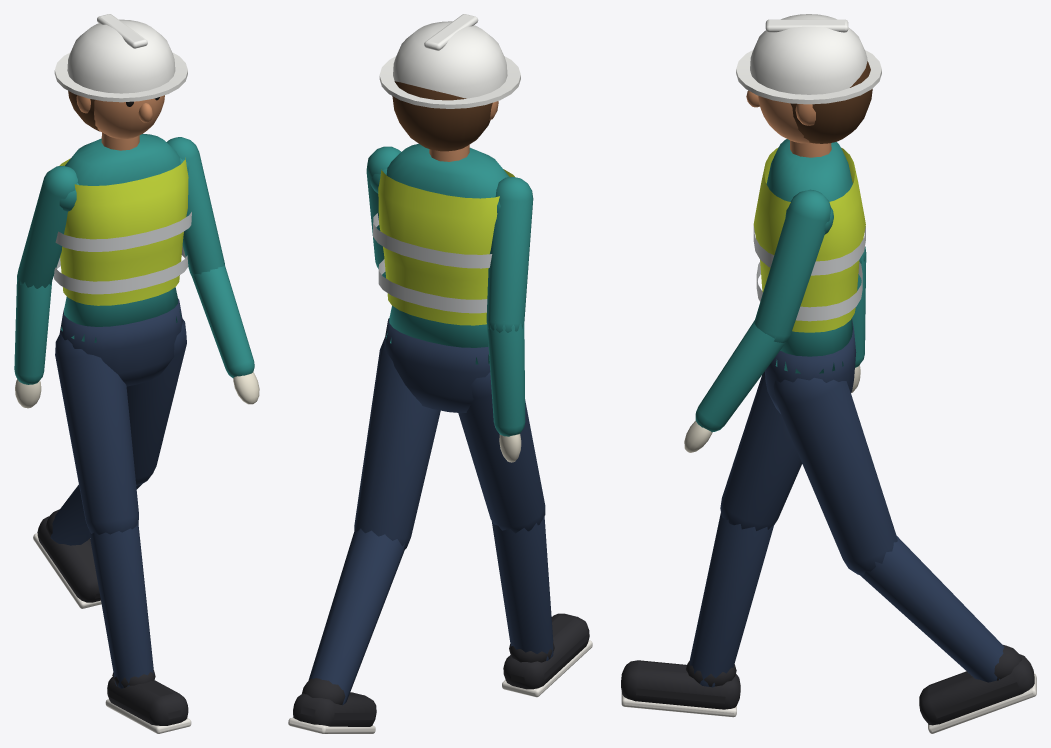
The model's file is tech_walk.fbx.
The picture shows the model from 3 angles, left to right: view 1: azimuth 30°, elevation 25°; view 2: azimuth 150°, elevation 25°; view 3: azimuth 270°, elevation 25°; orthographic projection. The views are drawn at different scales.
Visible parts, largest first — view 1: tech_walk; view 2: tech_walk; view 3: tech_walk.
Part boxes in pixels (left/top/right/bottom): tech_walk: left=14, top=14, right=259, bottom=733; tech_walk: left=288, top=14, right=592, bottom=733; tech_walk: left=621, top=14, right=1036, bottom=733.
Size of the model in its own units: 0.4965 by 1.76 by 0.9406.
